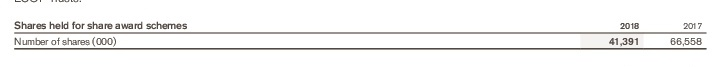table: (0, 0, 725, 67)
